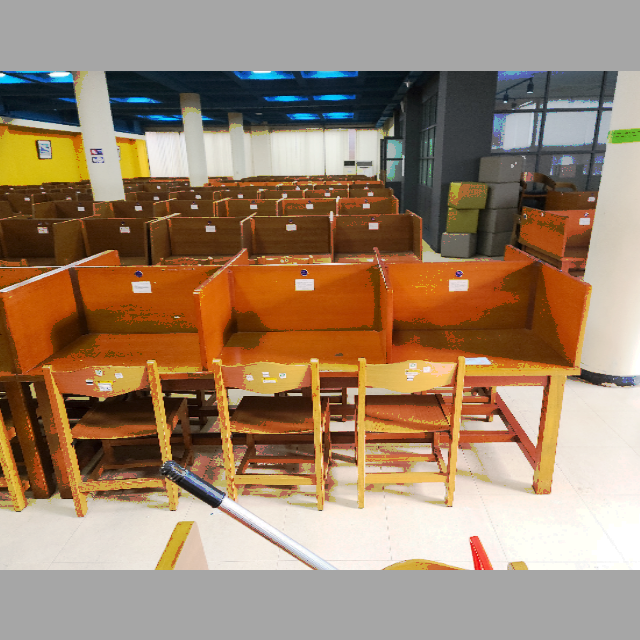empty: (393, 257, 576, 452), (17, 256, 201, 433), (209, 254, 391, 431)
